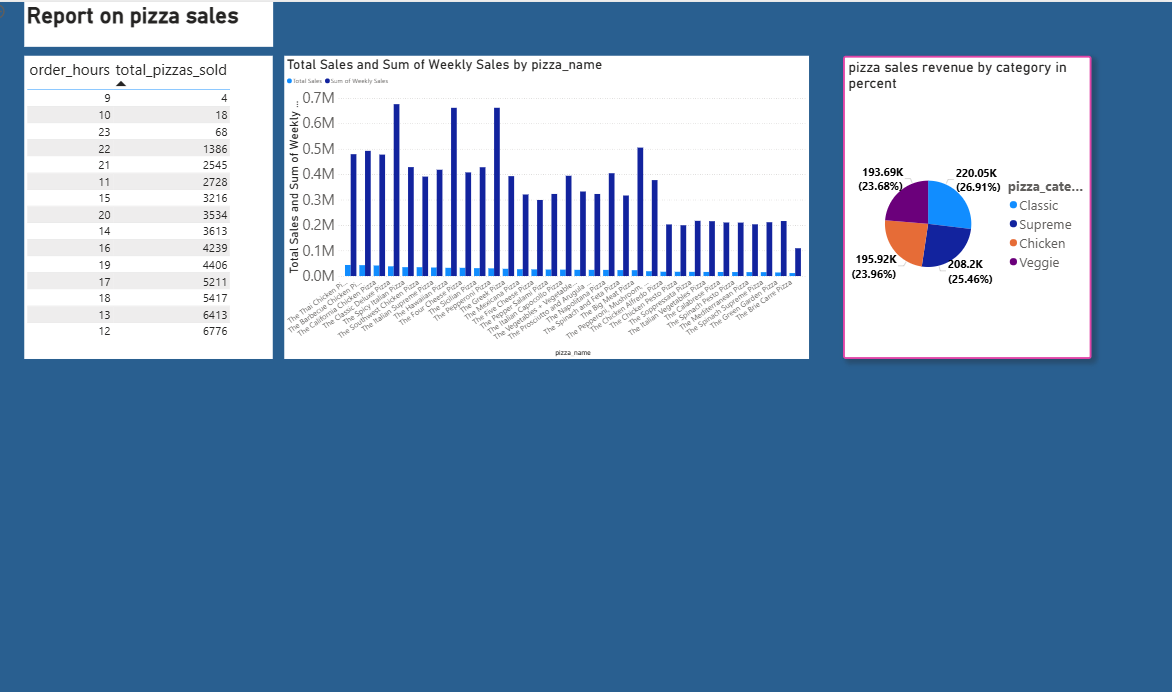

This screenshot's page, from the dashboard's own definition file:
{"tool":"powerbi","page":{"name":"Page 2","canvas":[2500,1500],"ordinal":1},"visuals":[{"type":"pieChart","title":"pizza sales revenue by category in percent","fields":{"Category":["Pizza Sales.pizza_category"],"Y":["Sum(Pizza Sales.total_price)"]},"box":[1800,112.8,523.1,638.5],"z":0},{"type":"tableEx","fields":{"Values":["sales by hours of the day.order_hours","sales by hours of the day.total_pizzas_sold"]},"box":[76.9,112.8,523.1,638.5],"z":1000},{"type":"actionButton","box":[0,0,100,40],"z":2000},{"type":"clusteredColumnChart","fields":{"Y":["Pizza Sales.Total Sales","Sum(Pizza Sales.Weekly Sales)"],"Category":["Pizza Sales.pizza_name"]},"box":[623.1,112.8,1105.1,638.5],"z":3000},{"type":"textbox","title":"Report on pizza sales","box":[76.3,0,523.7,94.7],"z":3001}]}

Visuals, with their boxes in screenshot pixels (x1, y1, x2, y2), scaled from the page's 2500x1500 canvas onto the 1172x692 screenshot:
"pizza sales revenue by category in percent" pieChart: rect(844, 52, 1089, 347)
tableEx - sales by hours of the day.order_hours x sales by hours of the day.total_pizzas_sold: rect(36, 52, 281, 347)
actionButton: rect(0, 0, 47, 18)
clusteredColumnChart - Pizza Sales.Total Sales x Sum(Pizza Sales.Weekly Sales): rect(292, 52, 810, 347)
"Report on pizza sales" textbox: rect(36, 0, 281, 44)
